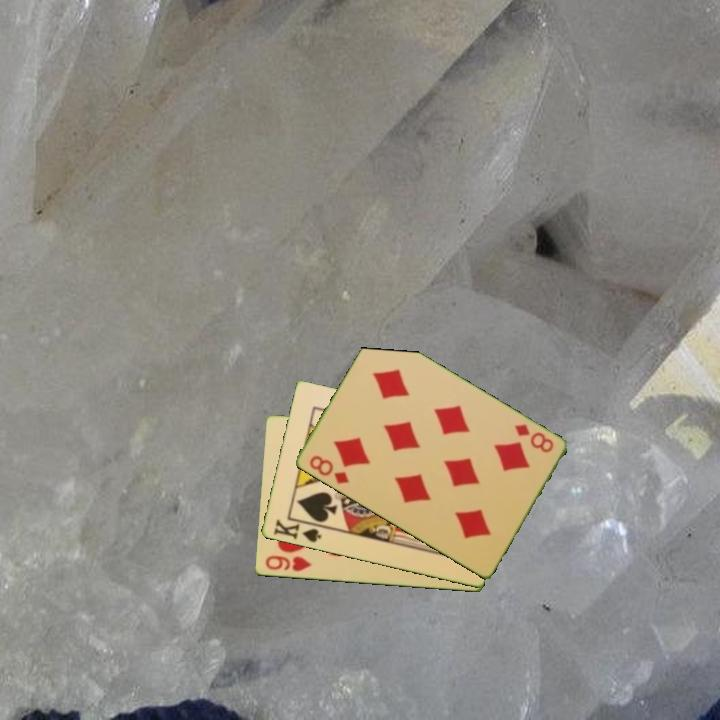8d: (305, 452, 352, 487), (511, 420, 556, 456)
9h: (262, 552, 314, 574)
Ks: (270, 515, 326, 546)
